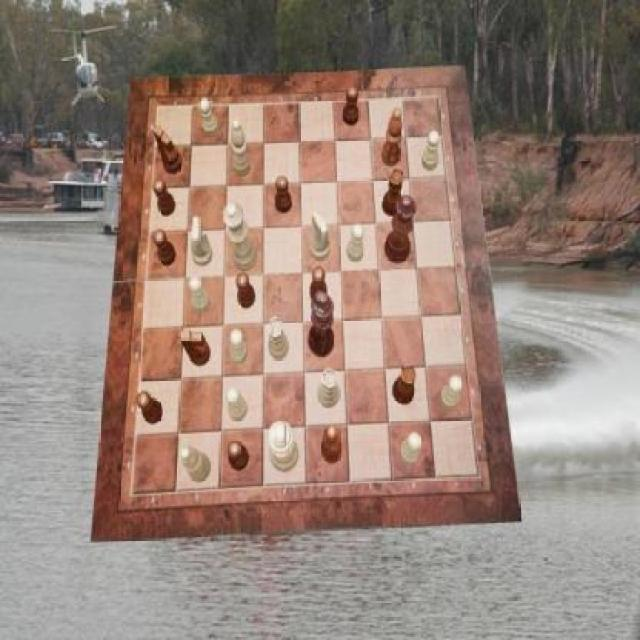bishop: (382, 108, 402, 166), (321, 426, 344, 465)
black-bishop: (308, 291, 334, 358)
black-king: (154, 126, 183, 176), (180, 330, 212, 366)
black-knight: (137, 390, 163, 424), (154, 179, 177, 216), (154, 230, 177, 266), (237, 272, 257, 308), (226, 440, 249, 471), (275, 175, 293, 213), (343, 86, 360, 126), (311, 268, 328, 304)
black-pawn: (385, 196, 417, 264)
black-queen: (381, 169, 404, 217), (392, 364, 417, 404)
black-rook: (180, 446, 212, 482), (231, 119, 251, 176)
white-bishop: (269, 420, 300, 472)
white-king: (190, 217, 212, 268), (309, 211, 330, 260)
white-knight: (440, 375, 463, 410), (200, 98, 220, 138), (189, 275, 210, 313), (400, 432, 423, 466), (226, 388, 247, 422), (422, 131, 439, 171), (348, 223, 365, 262), (231, 330, 248, 366)
white-pawn: (224, 203, 258, 272)
white-queen: (318, 368, 341, 408), (268, 317, 288, 359)
